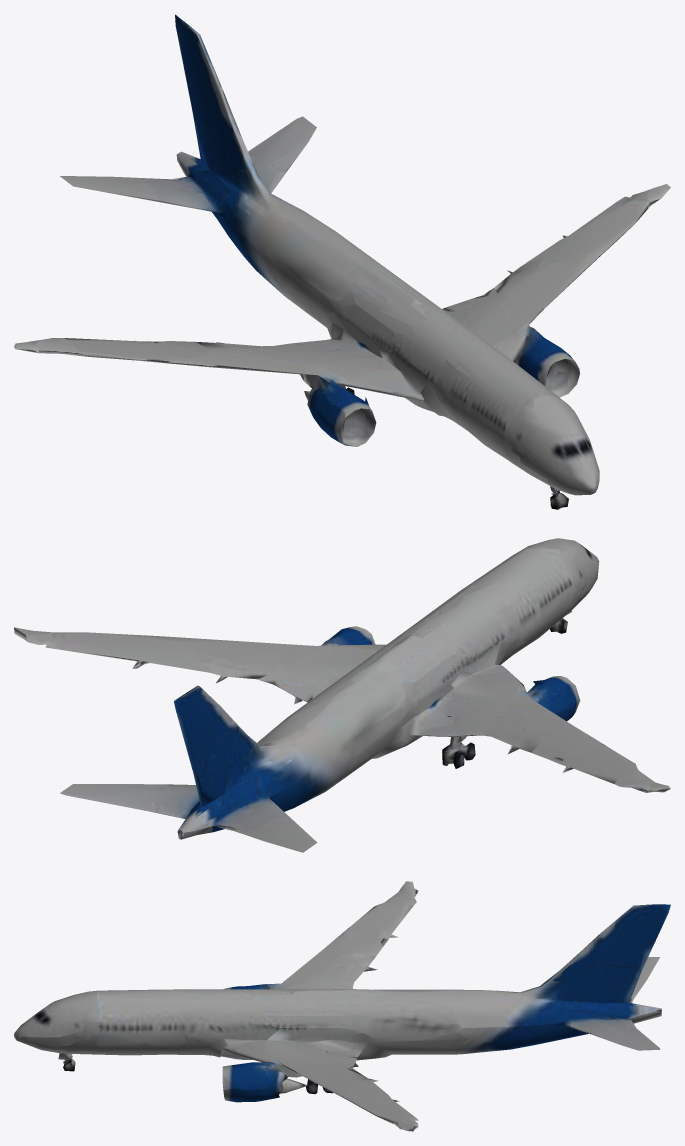
The model's file is pesawat_1_lod2.glb.
3 views of the same model, one above another, from view 1: azimuth 30°, elevation 25°; view 2: azimuth 150°, elevation 25°; view 3: azimuth 270°, elevation 25° (orthographic). The views are drawn at different scales.
Parts seen in each view (by area): view 1: tripo_node_ab5b049f; view 2: tripo_node_ab5b049f; view 3: tripo_node_ab5b049f.
Boxes of the visible parts, box(x1,y1,x2,y2) form: tripo_node_ab5b049f: box(14, 14, 670, 509); tripo_node_ab5b049f: box(14, 538, 670, 852); tripo_node_ab5b049f: box(14, 881, 670, 1131).
Size of the model in its own units: 90.14 by 27.78 by 99.98.
1 material, 1 textured.
